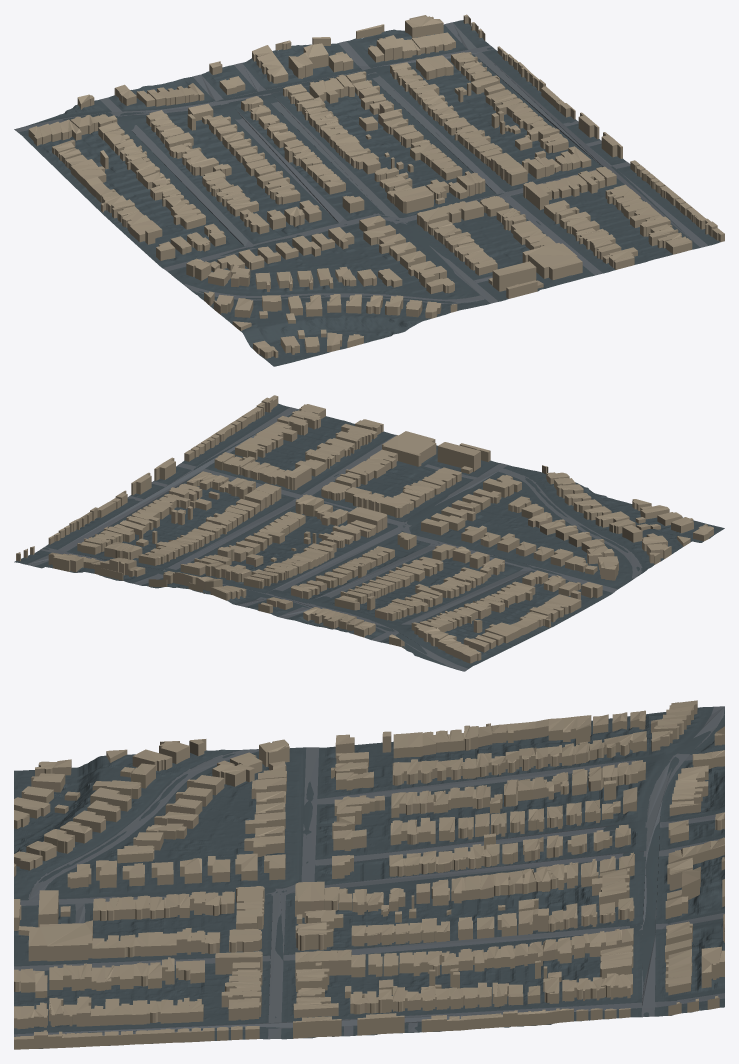
File: epsg26910-1425-10872.lod0.glb
3 views of the same model, one above another, from view 1: azimuth 30°, elevation 25°; view 2: azimuth 150°, elevation 25°; view 3: azimuth 270°, elevation 25° (orthographic). The views are drawn at different scales.
Parts seen in each view (by area): view 1: epsg26910-1425-10872-lod0; view 2: epsg26910-1425-10872-lod0; view 3: epsg26910-1425-10872-lod0.
Boxes of the visible parts, bbox=[...] form: epsg26910-1425-10872-lod0: bbox=[14, 14, 724, 366]; epsg26910-1425-10872-lod0: bbox=[14, 395, 724, 671]; epsg26910-1425-10872-lod0: bbox=[14, 700, 724, 1049].
Size of the model in its own units: 384 by 56.72 by 384.
